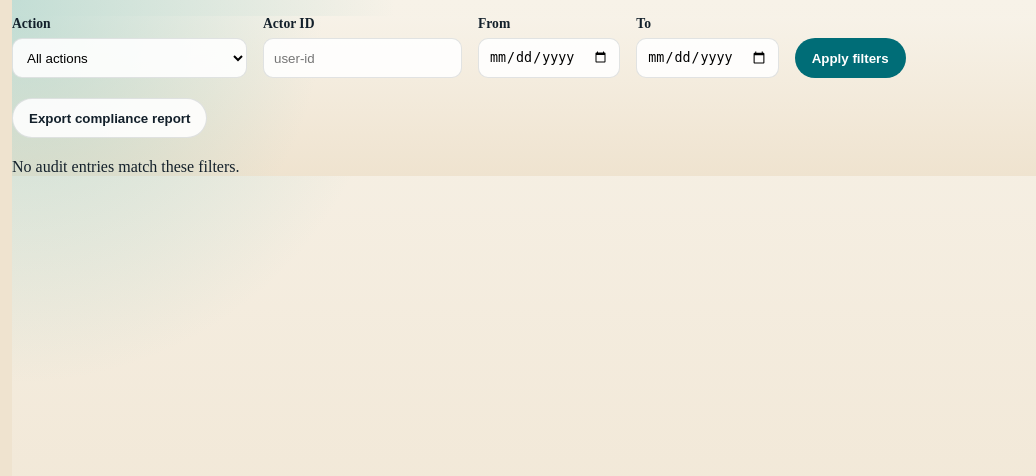
Test: AuditLog › shows an error message if the export request fails
Expected: the text "No audit entries match these filters." is shown, [12,158,240,175]
Click the button "Export compliance report" at {"x": 110, "y": 118}, box [12,98,208,138]
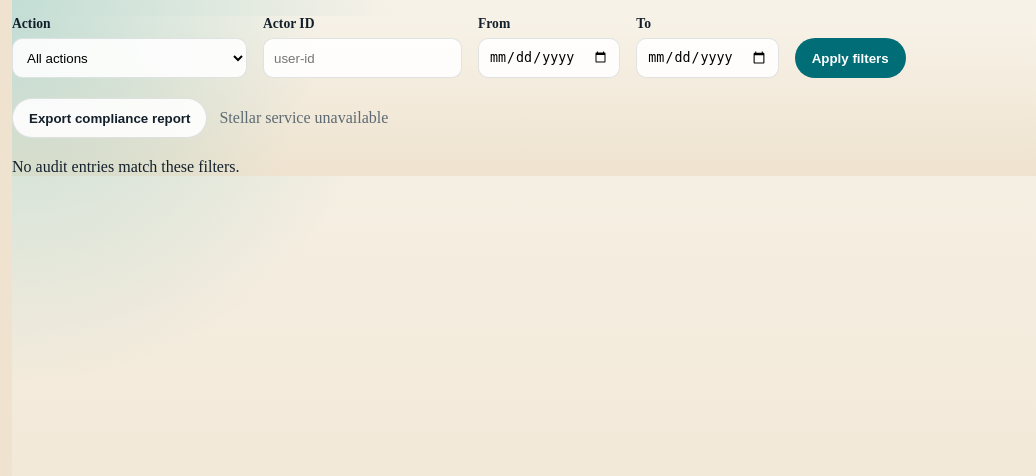
Expected: the text "Stellar service unavailable" is shown, [220,109,388,127]
